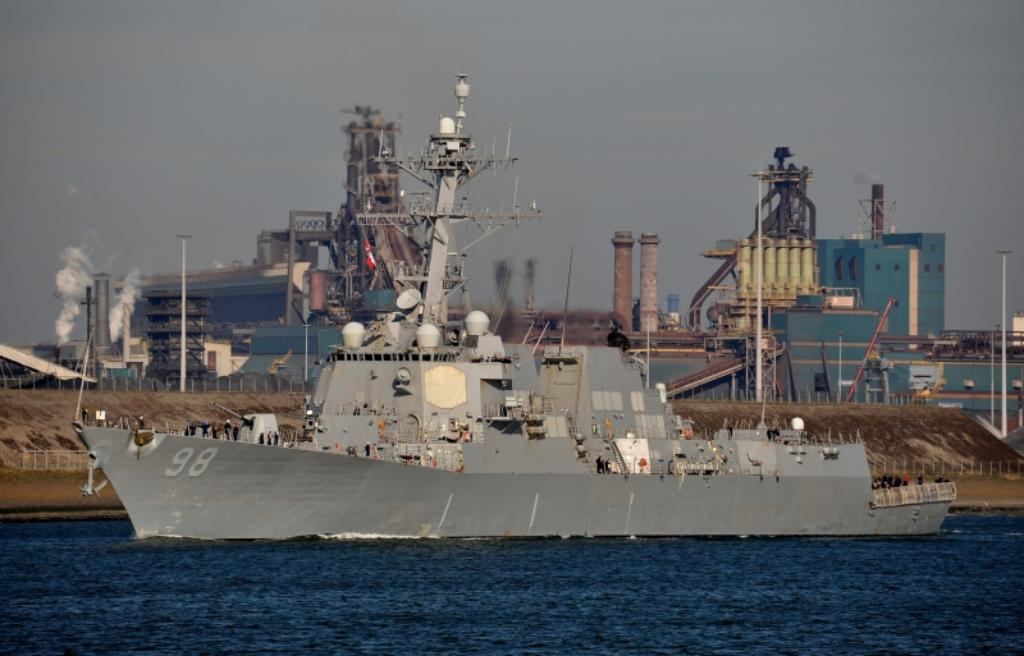Warship: (63, 67, 957, 537)
